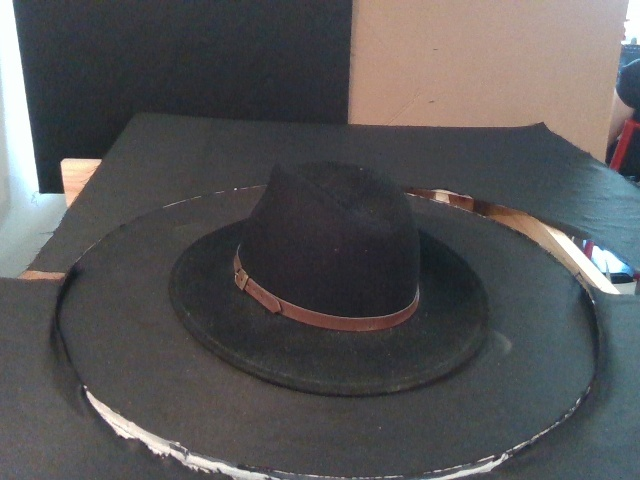hat: (168, 162, 491, 400)
